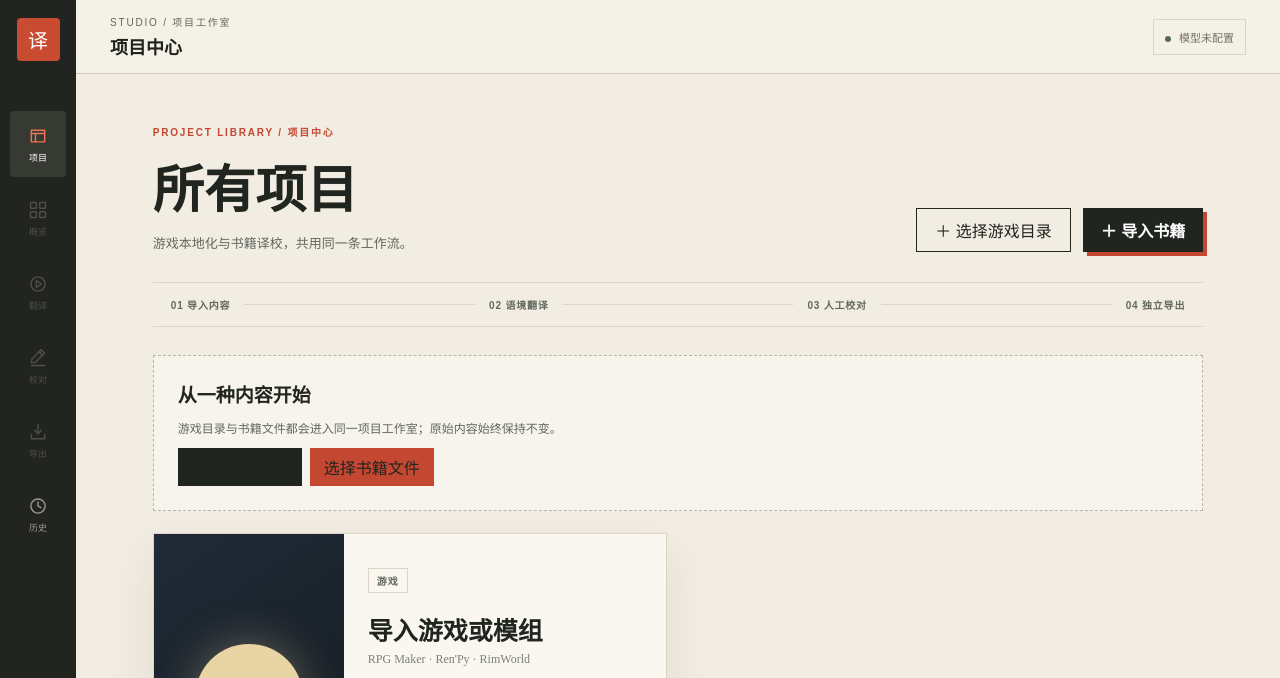
Test: project flow › opens all persisted patch history without selecting a project
This screenshot has width=1280, height=678.
Expected: the heading "所有项目" is shown, [153,162,358,219]
Click the button "历史".
click(38, 514)  # box [10,481,66,547]
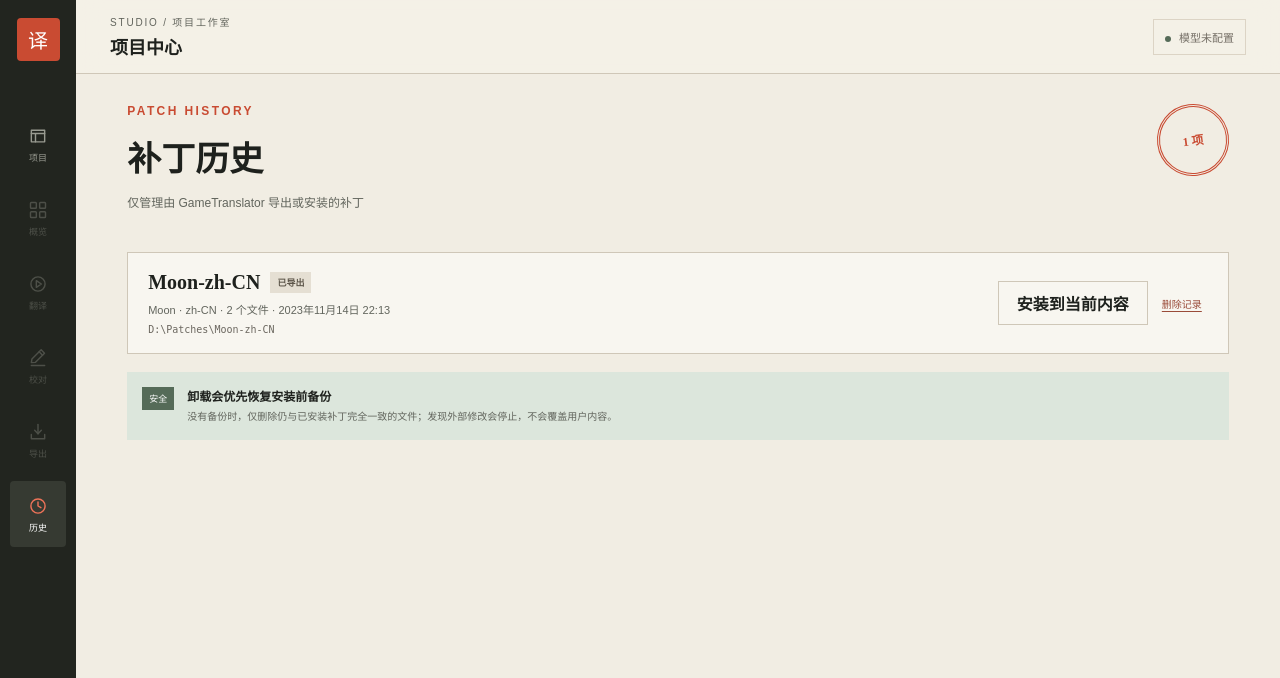
Expected: the heading "补丁历史" is shown, [127,141,263,178]
Expected: the text "Moon-zh-CN" is shown, [148,271,260,294]
Expected: the text "Moon · zh-CN · 2 个文件 · 2023年11月14日 22:13" is shown, [148,301,390,317]
